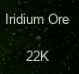Iridium: (4, 12, 71, 63)
